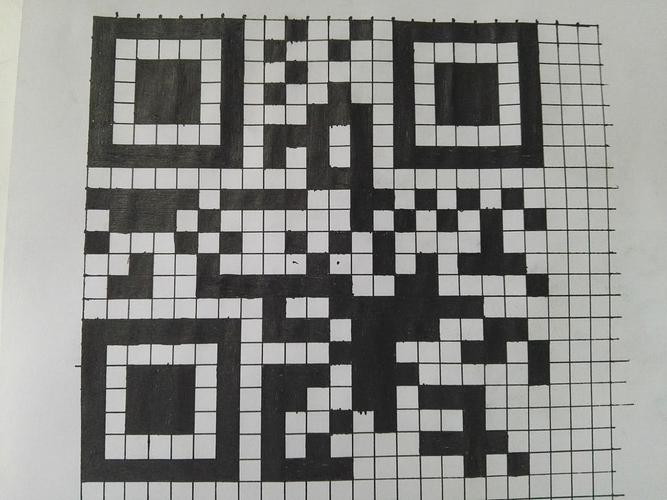QRCode: (79, 7, 562, 490)
